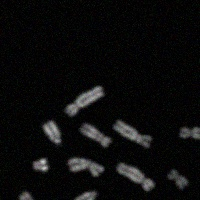chromosome: (66, 85, 103, 116), (116, 162, 154, 191), (113, 120, 151, 148), (80, 123, 112, 147), (68, 158, 104, 175), (42, 119, 60, 144), (168, 168, 188, 189), (179, 124, 200, 139), (73, 190, 96, 200), (32, 158, 47, 171), (18, 192, 37, 200)
